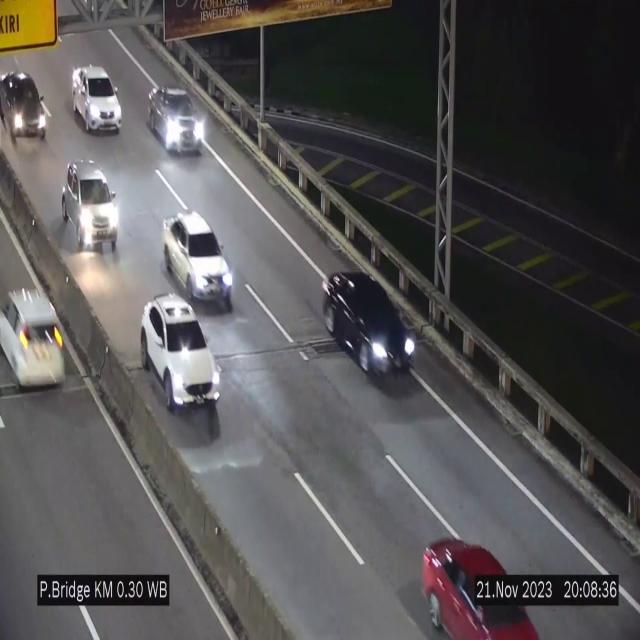Car: (409, 522, 546, 640), (320, 268, 416, 388), (0, 274, 78, 397), (141, 294, 219, 410), (162, 212, 235, 304), (64, 155, 115, 256), (0, 66, 52, 148), (148, 86, 206, 154), (72, 65, 122, 131)
